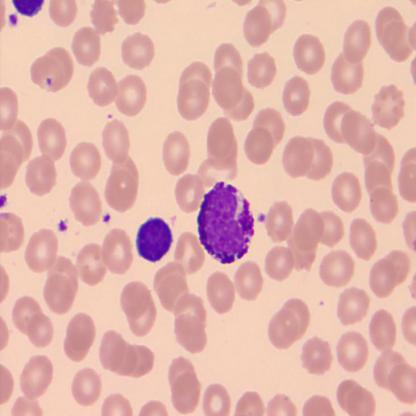Basophil: (194, 178, 256, 266), (134, 214, 174, 265)
